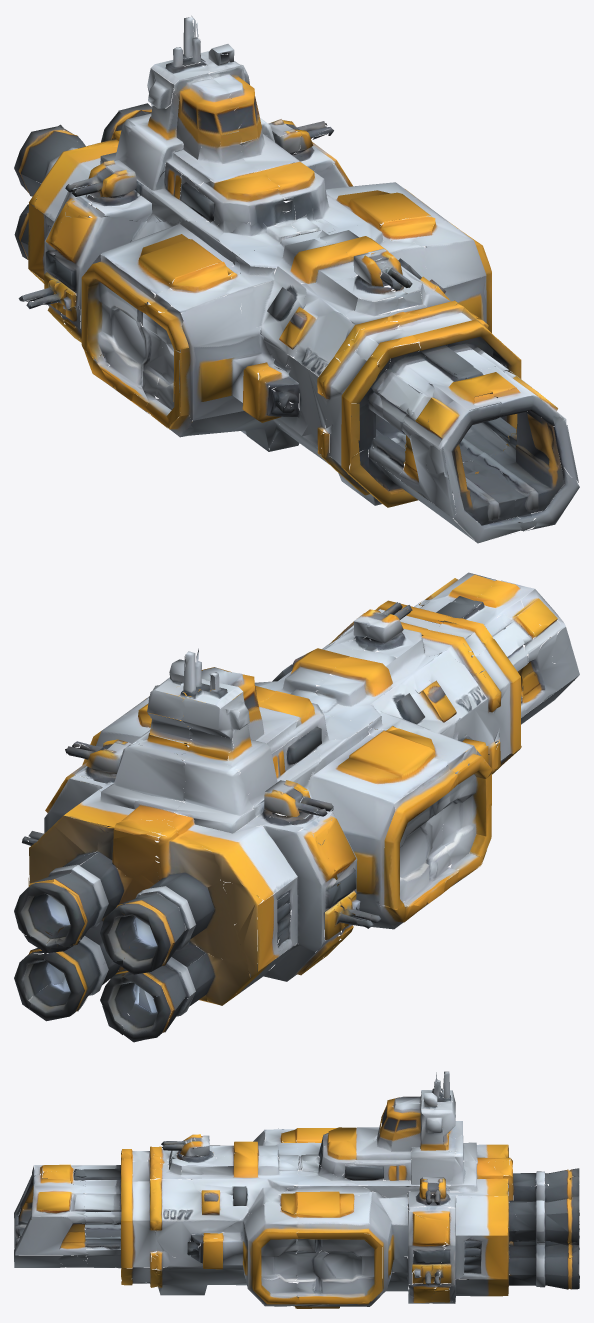
Rendered from carrier-a.glb.
3 renders of one model, top to bottom at view 1: azimuth 30°, elevation 25°; view 2: azimuth 150°, elevation 25°; view 3: azimuth 270°, elevation 25°, orthographic. The views are drawn at different scales.
Visible parts, largest first — view 1: tripo_node_4091d306-392d-4100-883c-88d187b5181d; view 2: tripo_node_4091d306-392d-4100-883c-88d187b5181d; view 3: tripo_node_4091d306-392d-4100-883c-88d187b5181d.
Part boxes in pixels (box(x1,y1,x2,y2)): tripo_node_4091d306-392d-4100-883c-88d187b5181d: box(14, 15, 579, 543); tripo_node_4091d306-392d-4100-883c-88d187b5181d: box(14, 572, 579, 1042); tripo_node_4091d306-392d-4100-883c-88d187b5181d: box(14, 1071, 579, 1308).
Size of the model in its own units: 0.4739 by 0.4179 by 1.
Materials: 1 (1 with a texture image).
